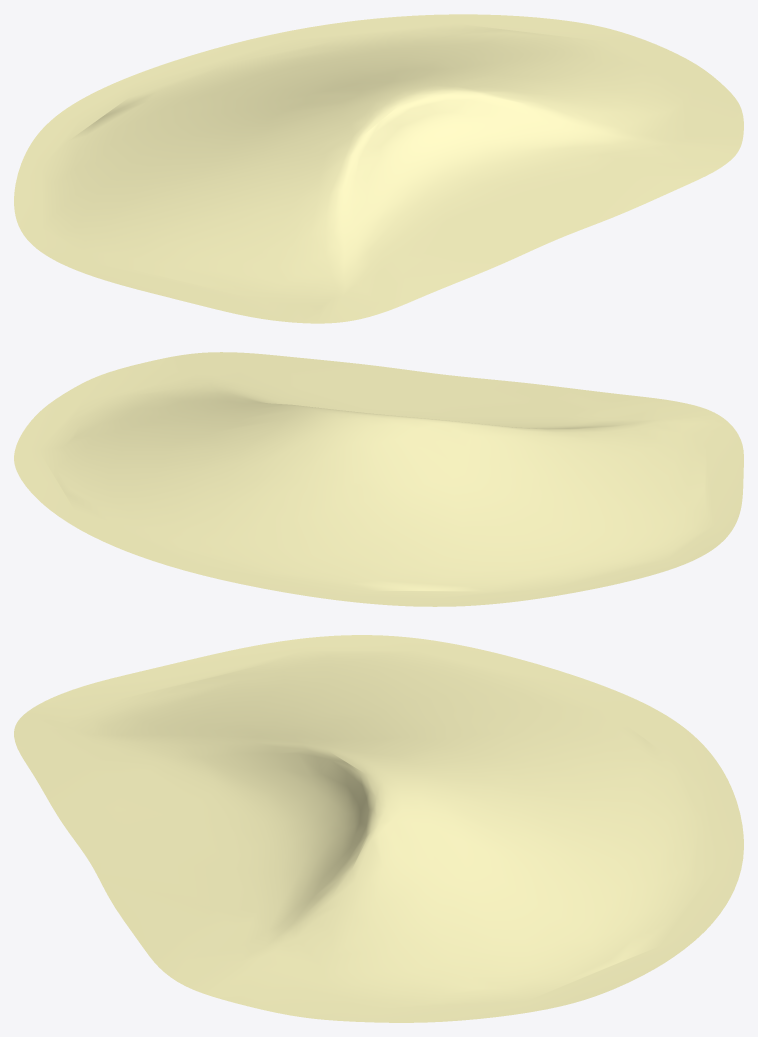
The model's file is Sand_003.glb.
The picture shows the model from 3 angles, top to bottom: view 1: azimuth 30°, elevation 25°; view 2: azimuth 150°, elevation 25°; view 3: azimuth 270°, elevation 25°; orthographic projection. The views are drawn at different scales.
Parts seen in each view (by area): view 1: Sand_003; view 2: Sand_003; view 3: Sand_003.
Part boxes in pixels (box(x1,y1,x2,y2)): Sand_003: box(14, 14, 743, 323); Sand_003: box(14, 352, 743, 606); Sand_003: box(14, 635, 743, 1022).
Size of the model in its own units: 7.04 by 0.5678 by 5.6.
1 material, 1 textured.
